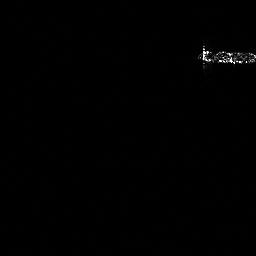ship: (194, 39, 256, 73)
